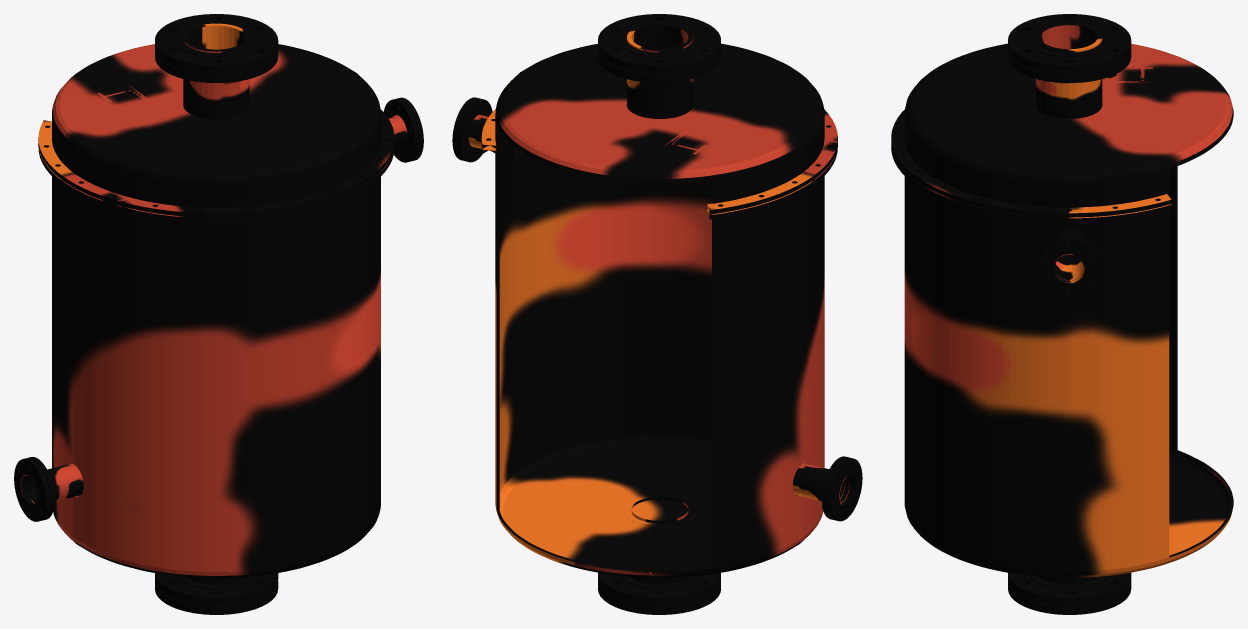
The model's file is newSbor.fbx.
The picture shows the model from 3 angles, left to right: view 1: azimuth 30°, elevation 25°; view 2: azimuth 150°, elevation 25°; view 3: azimuth 270°, elevation 25°; orthographic projection.
Visible parts, largest first — view 1: Пятый блок\Адсорбер 2\Крышка адс.005; view 2: Пятый блок\Адсорбер 2\Крышка адс.005; view 3: Пятый блок\Адсорбер 2\Крышка адс.005.
Boxes of the visible parts, x1,y1,x2,y2 form: Пятый блок\Адсорбер 2\Крышка адс.005: (14, 14, 423, 614); Пятый блок\Адсорбер 2\Крышка адс.005: (452, 14, 862, 614); Пятый блок\Адсорбер 2\Крышка адс.005: (891, 14, 1233, 614).
Bounding box in the file's own units: 49116 × 68104 × 38275.
